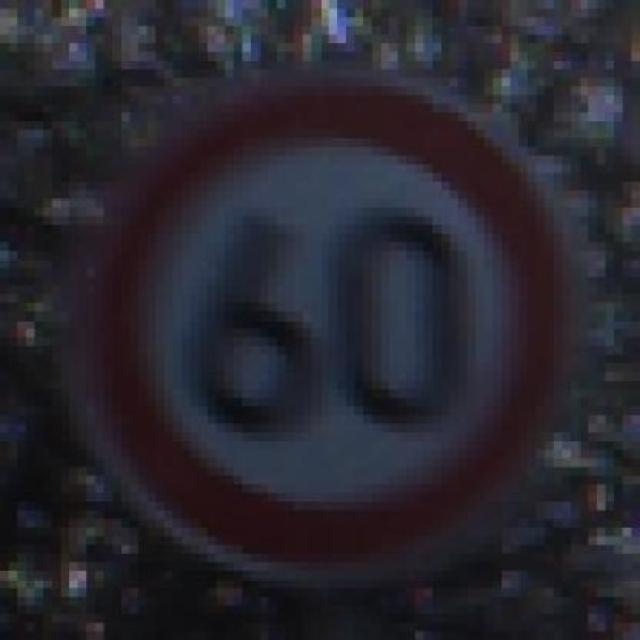forb_speed_over_60: (103, 77, 555, 566)
